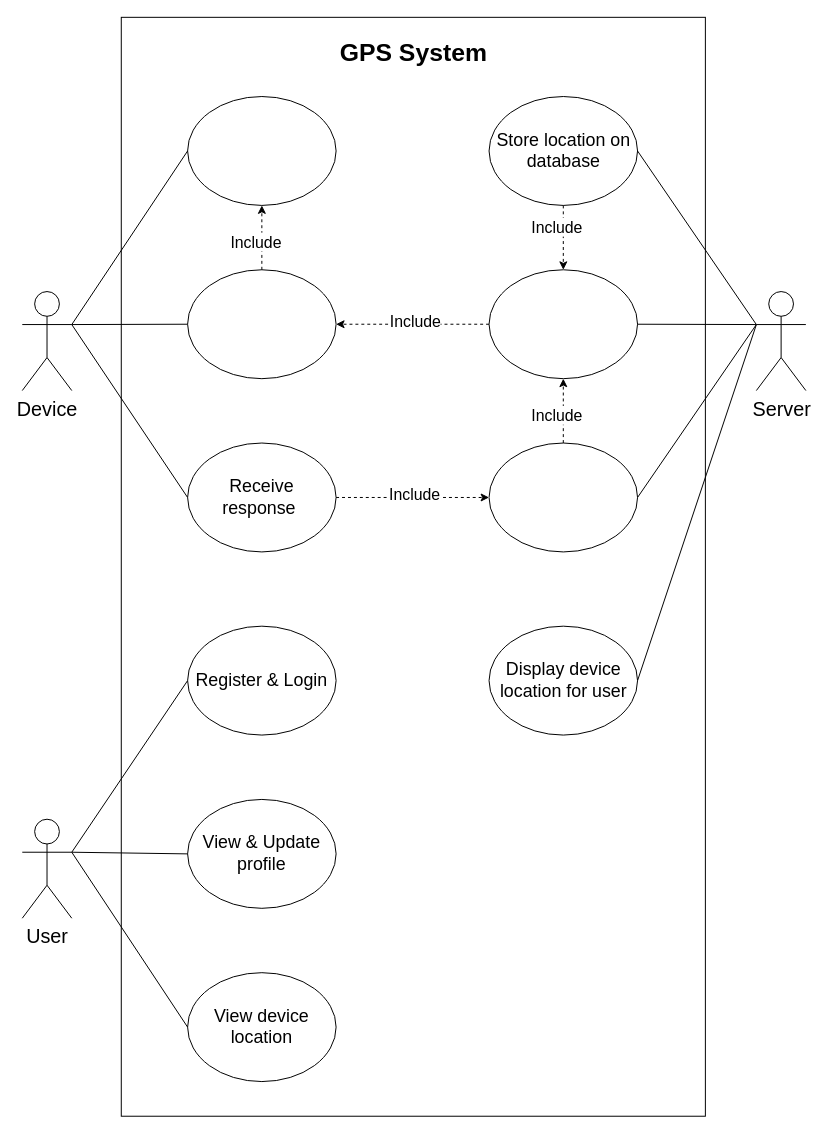
Some shapes in this 828 by 1134 pixel diagram are drawn without their labels. Here are the shapes that lost their labels. From the top down, the box of each, then its label:
(187, 96, 336, 205): Connect to Server
(187, 269, 336, 379): Send location to Server
(488, 269, 638, 379): Receive & Validate device location
(488, 442, 638, 552): Send response to device
